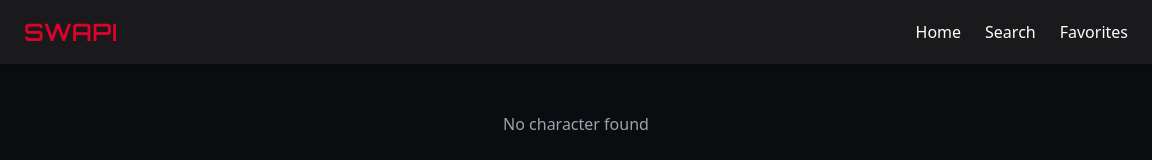
Test: Top Navigation Bar Routes › navigates to search page via Search link
The width and height of the screenshot is (1152, 160).
Click the link with test id "search-route-link".
click(1011, 32)  # box 985,20 -> 1036,44
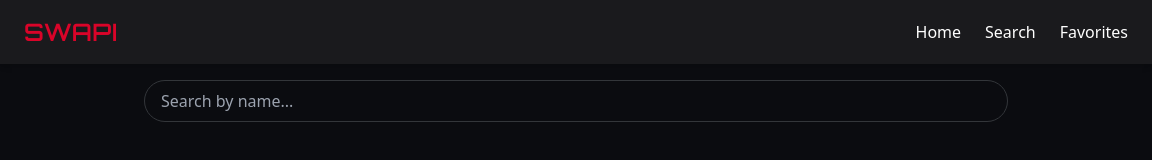
Expected: the element with test id "search-character-page" is shown, 144,80 -> 1008,122
